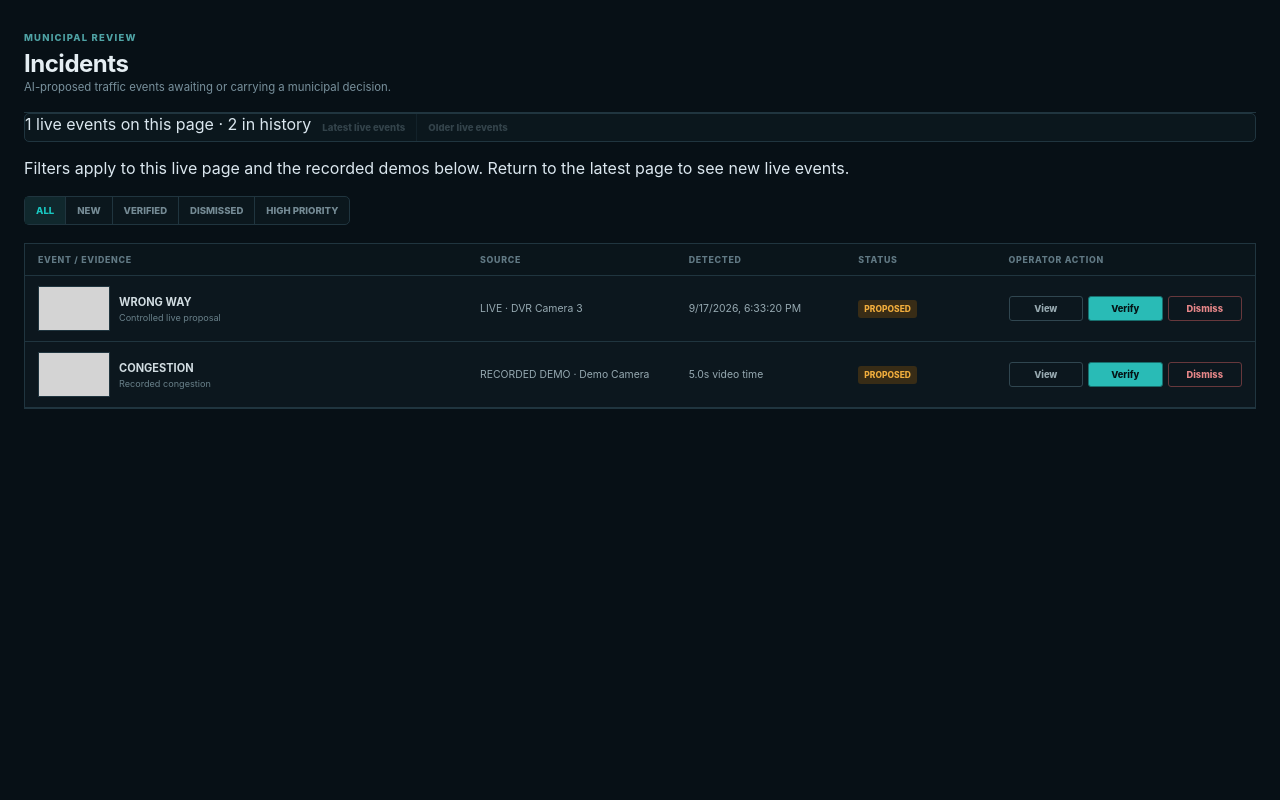
refreshes recorded incidents and their open detail after an external review
Step 1. Click the button "View" in the row of "5.0s video time" → point(1046, 374), box left=1008, top=362, right=1083, bottom=387
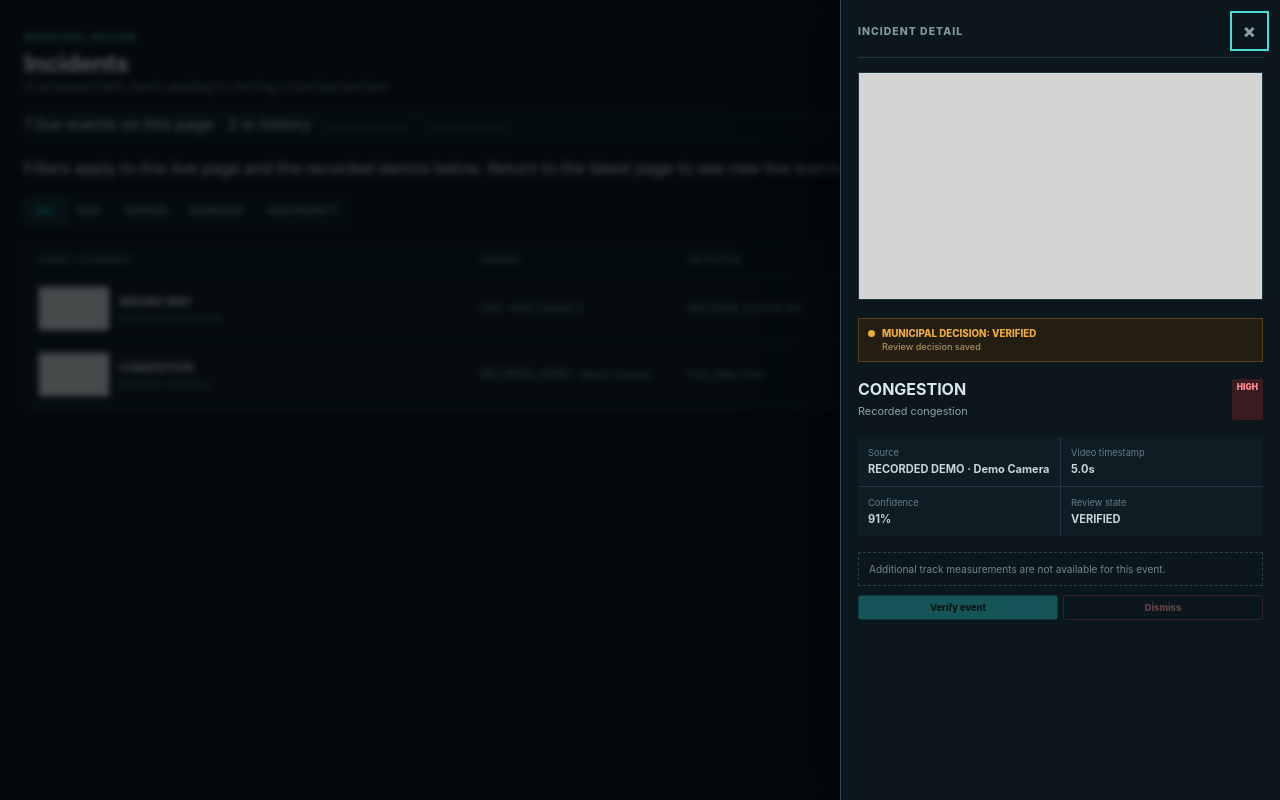
Result: the text "VERIFIED" is shown at left=1071, top=512, right=1120, bottom=526
